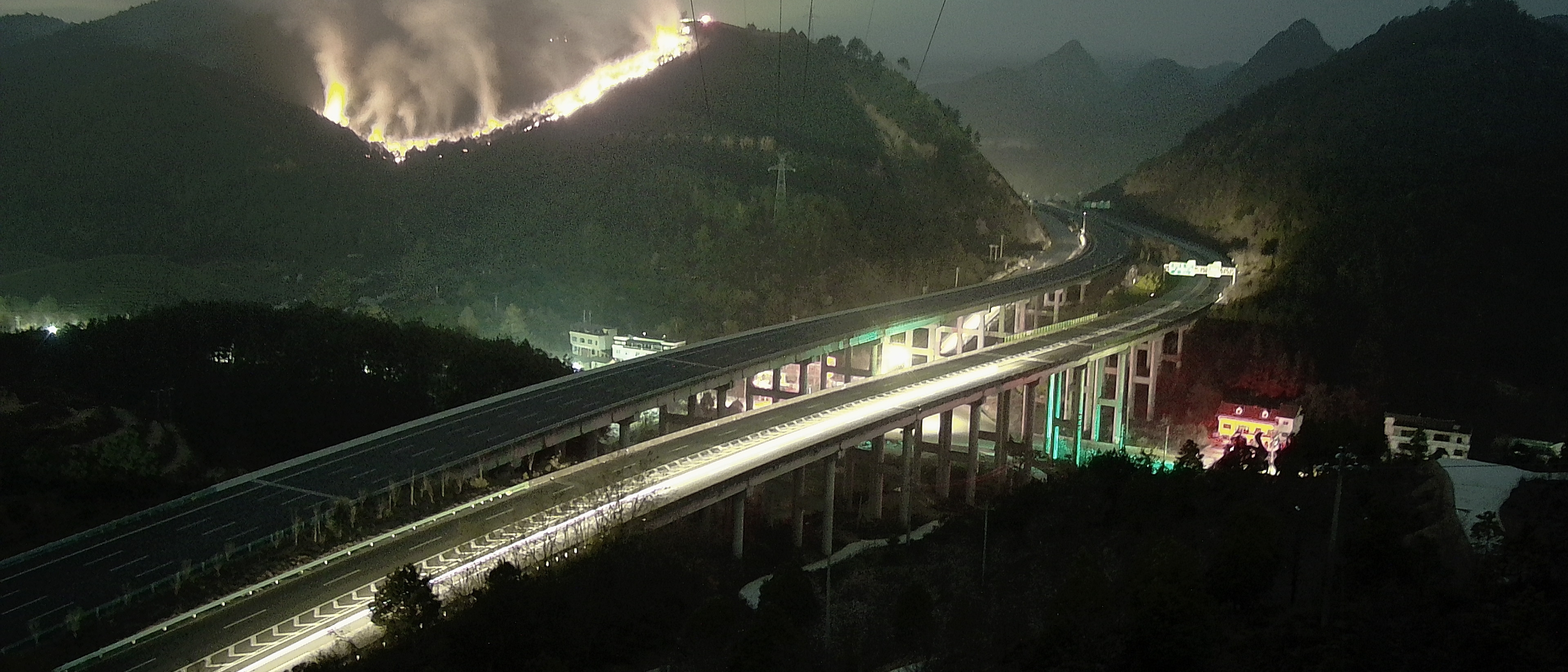山火: (523, 25, 690, 132), (323, 82, 349, 127), (387, 140, 426, 163), (369, 129, 384, 141), (488, 120, 503, 129), (697, 14, 711, 23), (428, 138, 438, 145), (680, 18, 694, 22), (473, 130, 480, 136), (482, 129, 489, 133)
烟雾: (274, 0, 715, 165)
